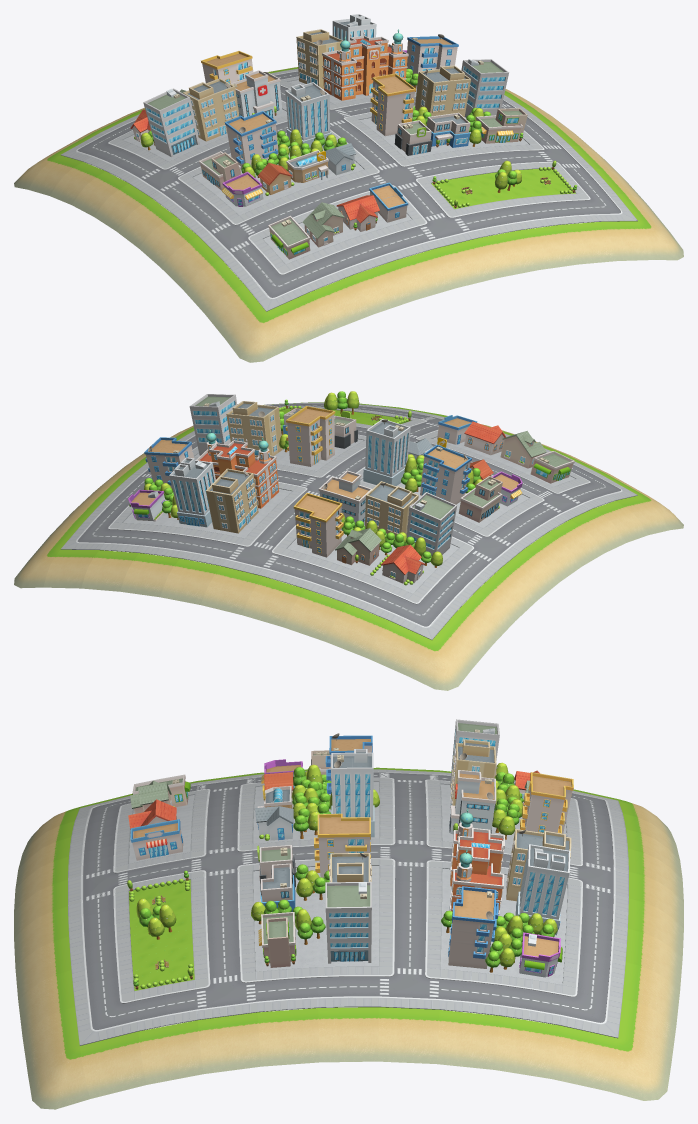
Rendered from toon-city.fbx.
3 views of the same model, one above another, from view 1: azimuth 30°, elevation 25°; view 2: azimuth 150°, elevation 25°; view 3: azimuth 270°, elevation 25° (orthographic). The views are drawn at different scales.
Visible parts, largest first — view 1: city_Mat Ground Elements_0, city_Mat General Buildings_0, city_Mat Main Buildings_0; view 2: city_Mat Ground Elements_0, city_Mat General Buildings_0, city_Mat Main Buildings_0; view 3: city_Mat Ground Elements_0, city_Mat General Buildings_0, city_Mat Main Buildings_0.
Part boxes in pixels (box(x1,y1,x2,y2)): city_Mat Ground Elements_0: box(14, 67, 683, 362); city_Mat General Buildings_0: box(130, 14, 577, 259); city_Mat Main Buildings_0: box(230, 29, 432, 182); city_Mat Ground Elements_0: box(14, 402, 683, 690); city_Mat General Buildings_0: box(128, 391, 574, 585); city_Mat Main Buildings_0: box(196, 411, 446, 528); city_Mat Ground Elements_0: box(14, 767, 683, 1109); city_Mat General Buildings_0: box(127, 719, 573, 989); city_Mat Main Buildings_0: box(257, 770, 505, 915).
Size of what is drawn, in the model's own units: 424277 by 132340 by 424012.
3 materials, 3 textured.
